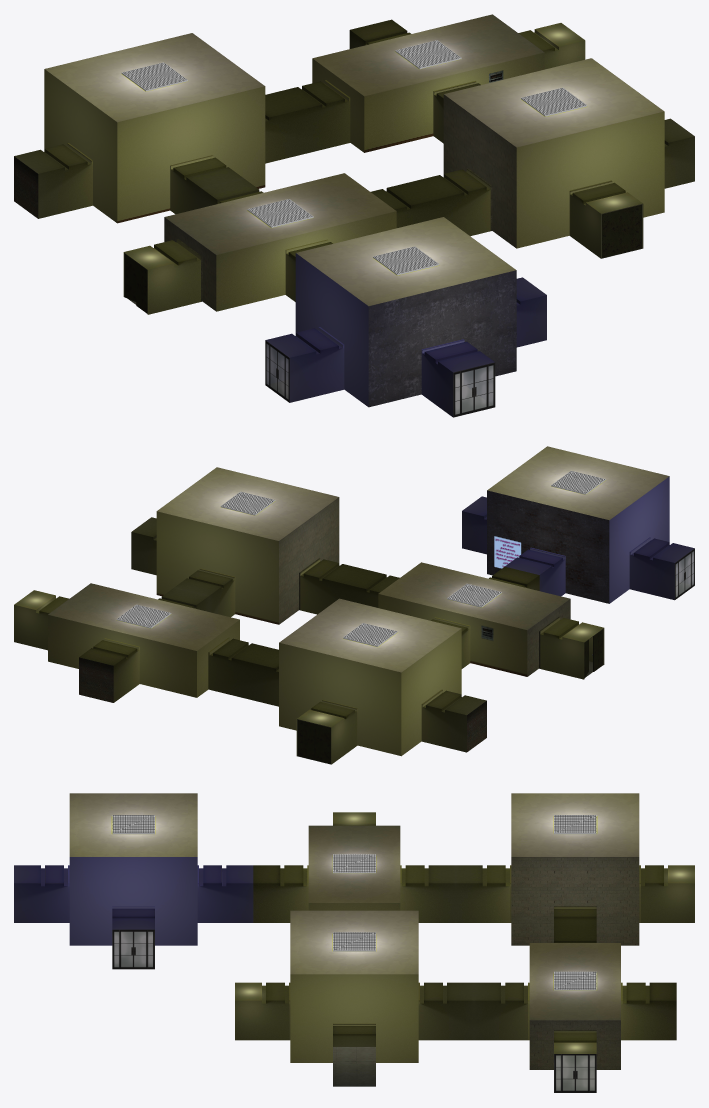
3 renders of one model, top to bottom at view 1: azimuth 30°, elevation 25°; view 2: azimuth 150°, elevation 25°; view 3: azimuth 270°, elevation 25°, orthographic. The views are drawn at different scales.
Visible parts, largest first — view 1: Material2 (×6); view 2: Material2 (×4); view 3: Material2 (×5).
Boxes of the visible parts, <box> form: Material2 (×6): <box>14,14,694,417</box>; Material2 (×4): <box>14,446,694,764</box>; Material2 (×5): <box>14,793,694,1092</box>.
Size of the model in its own units: 825 by 143 by 982.
Materials: 8 (5 with a texture image).
